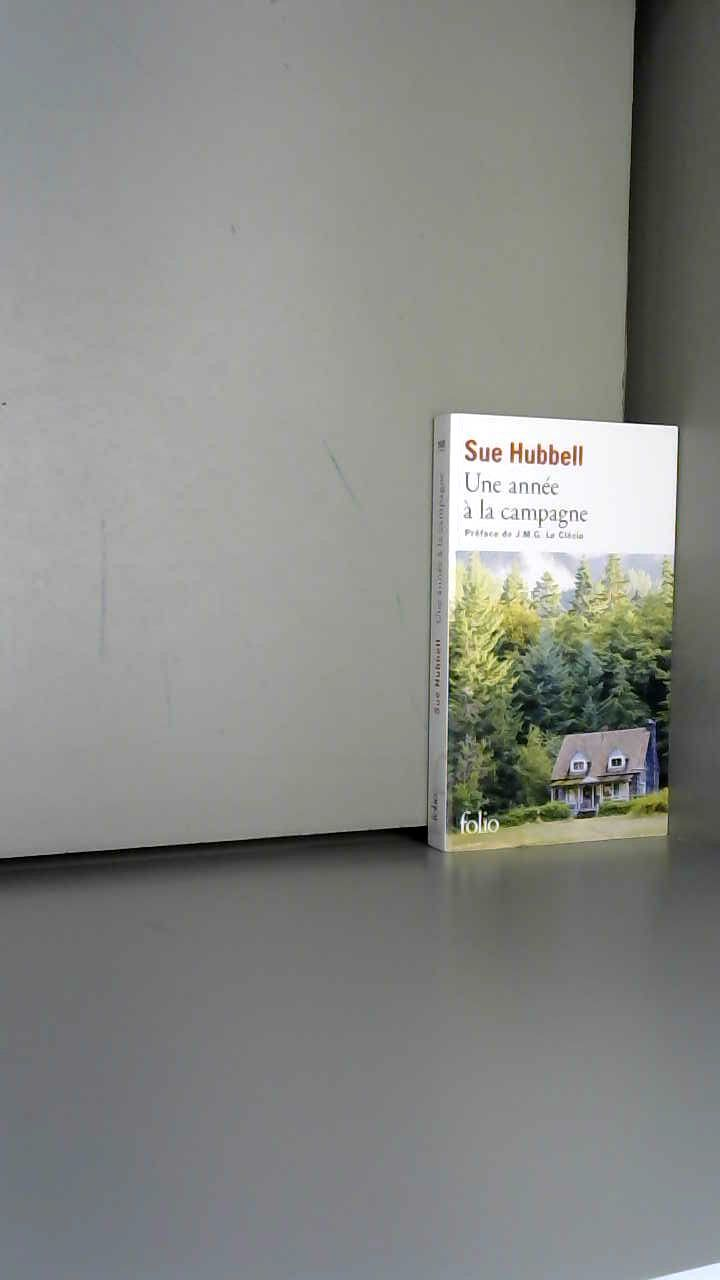book: (420, 390, 720, 881)
